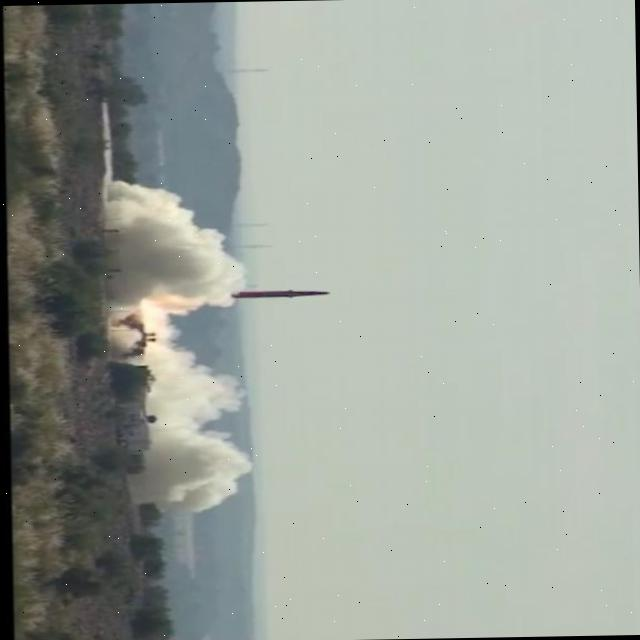missile: (222, 282, 332, 308)
